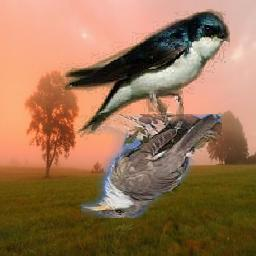Cuckoo: (82, 114, 223, 218)
Swallow: (60, 10, 231, 141)
